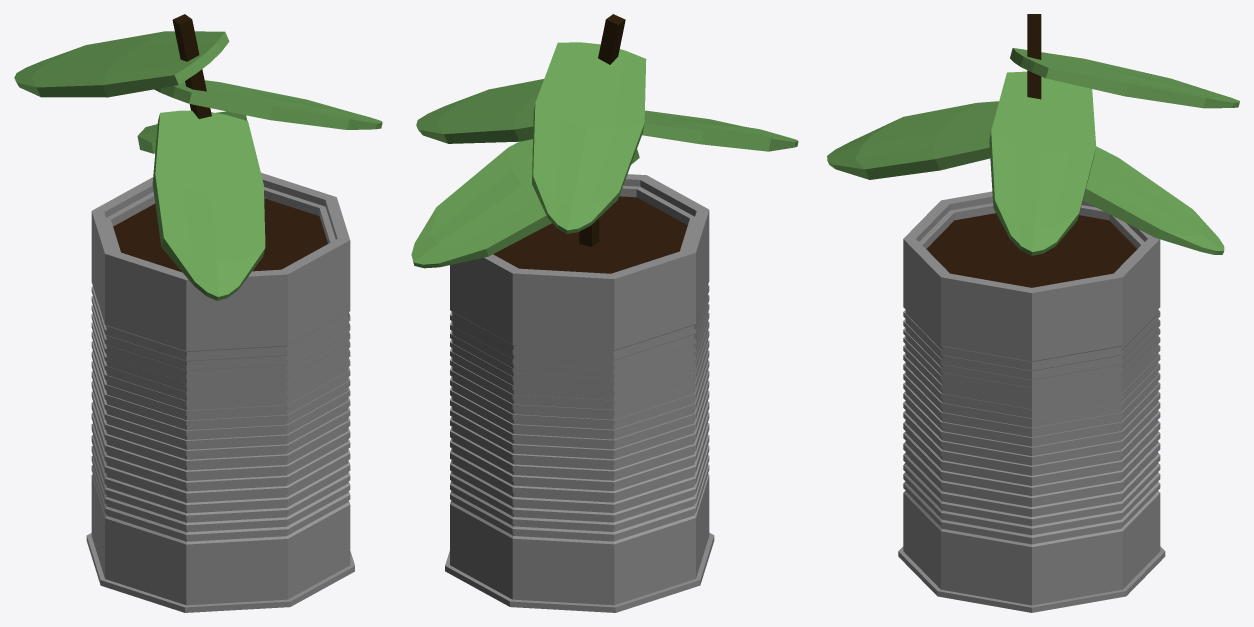
File: Maceta_2.fbx
3 views of the same model, side by side, from view 1: azimuth 30°, elevation 25°; view 2: azimuth 150°, elevation 25°; view 3: azimuth 270°, elevation 25° (orthographic). The views are drawn at different scales.
Parts seen in each view (by area): view 1: Lata, Hojas, Hojas.002, Hojas.003, Tallo, Hojas.001; view 2: Lata, Hojas.002, Hojas.001, Hojas.003, Hojas, Tallo; view 3: Lata, Hojas.003, Hojas, Hojas.001, Hojas.002, Tallo.
Boxes of the visible parts, box(x1,y1,x2,y2) form: Lata: box(86, 172, 354, 612); Hojas: box(152, 110, 265, 300); Hojas.002: box(14, 31, 229, 97); Hojas.003: box(154, 80, 382, 129); Tallo: box(172, 14, 211, 118); Hojas.001: box(137, 111, 247, 153); Lata: box(445, 174, 714, 612); Hojas.002: box(532, 42, 646, 233); Hojas.001: box(411, 139, 639, 268); Hojas.003: box(416, 79, 543, 143); Hojas: box(642, 110, 798, 151); Tallo: box(579, 14, 625, 246); Lata: box(898, 191, 1165, 612); Hojas.003: box(989, 71, 1096, 255); Hojas: box(827, 101, 998, 179); Hojas.001: box(1083, 146, 1224, 254); Hojas.002: box(1010, 48, 1239, 108); Tallo: box(1027, 14, 1041, 99).
Size of the model in its own units: 5543 by 10148 by 7235.
